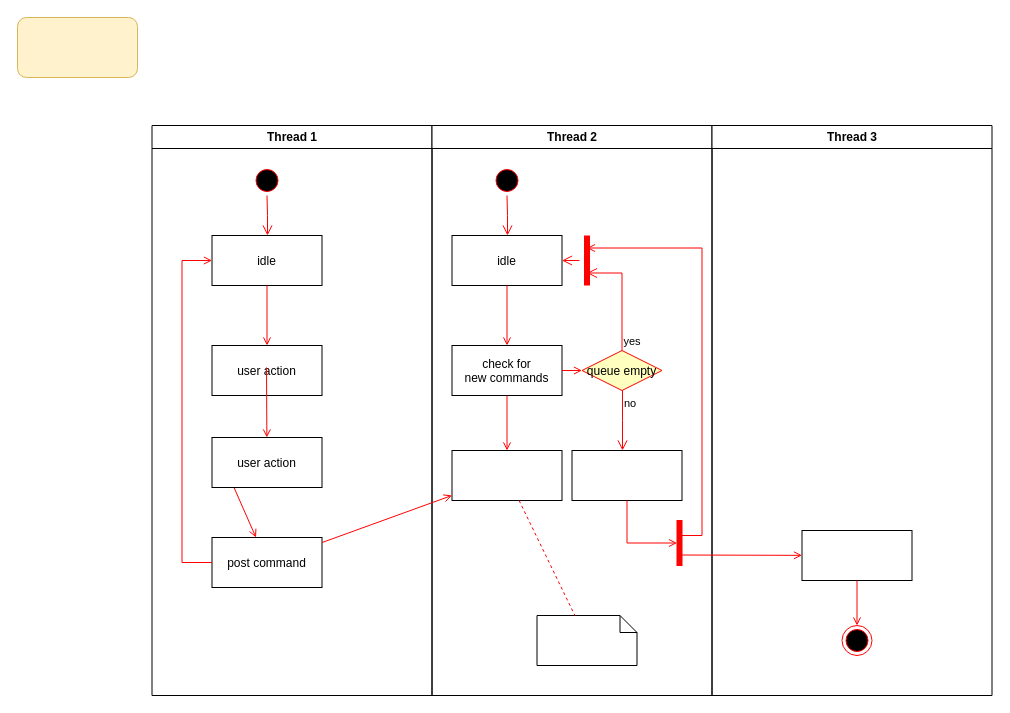
Image size: 1010x713. Some labels were removed from this diagram. The shapes that lost their labels are listed below. From the top down, each one's centre as x and y in pixels, then its label:
At [77,47]: "手术流程管理".
At [506,475]: "command queue".
At [626,475]: "dispatch command worker thread".
At [856,555]: "process command".
At [586,640]: "critical section".
